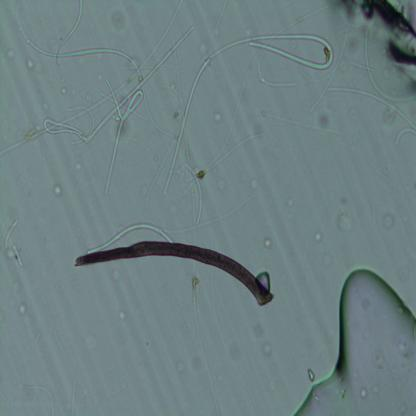Air bubble: (292, 266, 416, 414), (256, 272, 272, 290)
Background material: (248, 319, 275, 356), (333, 198, 354, 238), (82, 332, 99, 352), (22, 51, 36, 70), (382, 211, 396, 229), (17, 300, 28, 318), (174, 360, 188, 374), (52, 182, 64, 198), (260, 237, 273, 249), (312, 231, 324, 243), (116, 308, 126, 320), (306, 368, 315, 381)
Edge of slide: (363, 0, 416, 61)
Glass filter fibre: (0, 1, 184, 157), (162, 32, 334, 196), (43, 26, 193, 146), (14, 0, 138, 72), (208, 269, 262, 415), (191, 258, 219, 415), (106, 76, 142, 198), (186, 130, 265, 182), (359, 32, 416, 103), (327, 86, 416, 128), (86, 224, 176, 254), (53, 0, 84, 68), (184, 162, 203, 226), (254, 61, 297, 89), (23, 382, 56, 415), (394, 126, 416, 148), (4, 218, 19, 250), (367, 195, 377, 225), (12, 245, 24, 268)
Microfibre: (72, 244, 284, 307)
